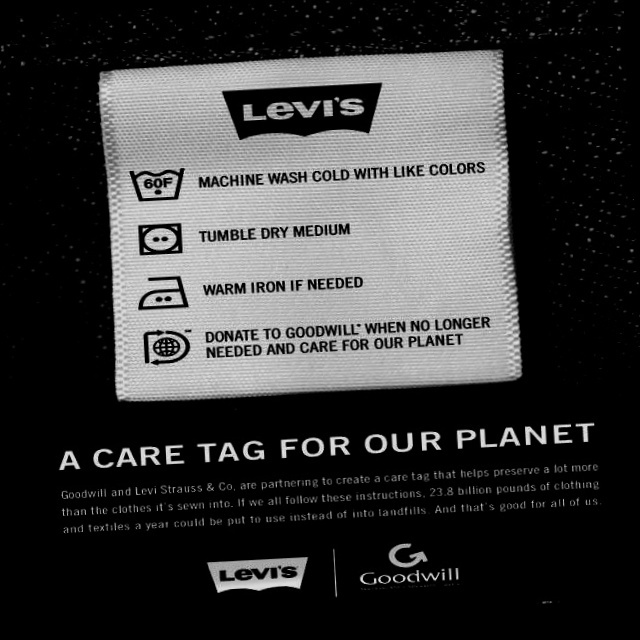30C: (127, 159, 190, 207)
iron_medium: (134, 270, 193, 316)
tumble_dry_medium: (133, 220, 188, 261)
